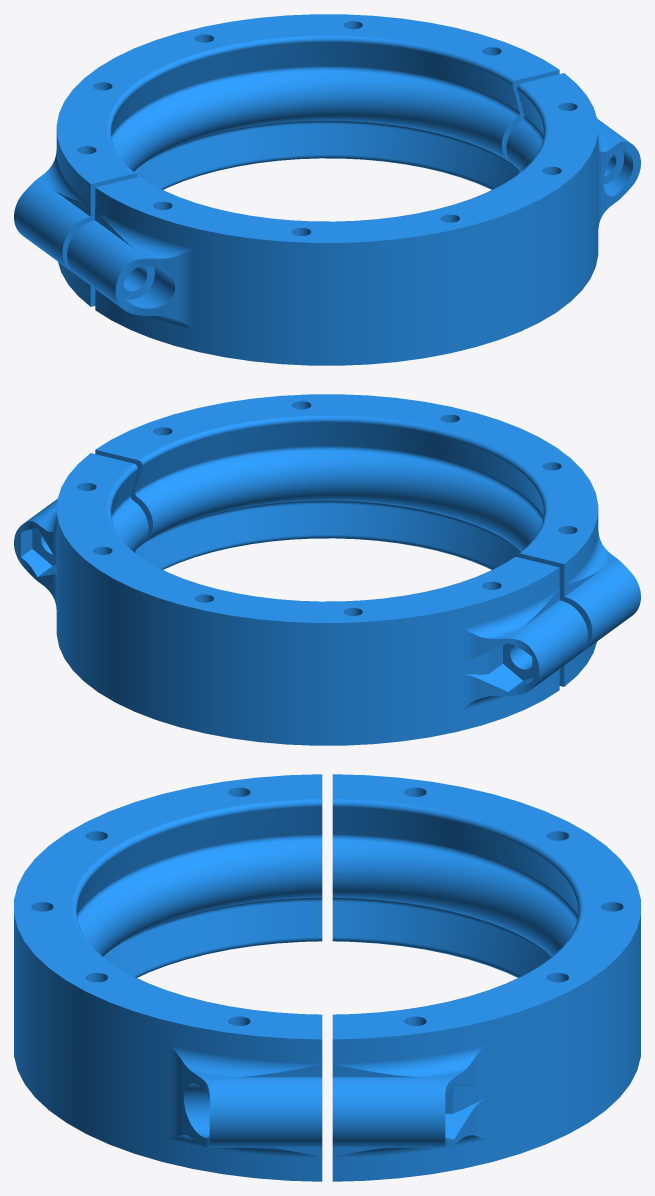
The model's file is joint_connector_visual.glb.
3 renders of one model, top to bottom at view 1: azimuth 30°, elevation 25°; view 2: azimuth 150°, elevation 25°; view 3: azimuth 270°, elevation 25°, orthographic. The views are drawn at different scales.
Parts seen in each view (by area): view 1: joint_connector_visual.001; view 2: joint_connector_visual.001; view 3: joint_connector_visual.001.
Boxes of the visible parts, <box> form: joint_connector_visual.001: <box>14,14,640,365</box>; joint_connector_visual.001: <box>14,394,640,745</box>; joint_connector_visual.001: <box>14,774,640,1181</box>.
Bounding box in the file's own units: 0.1344 × 0.03 × 0.1198.
